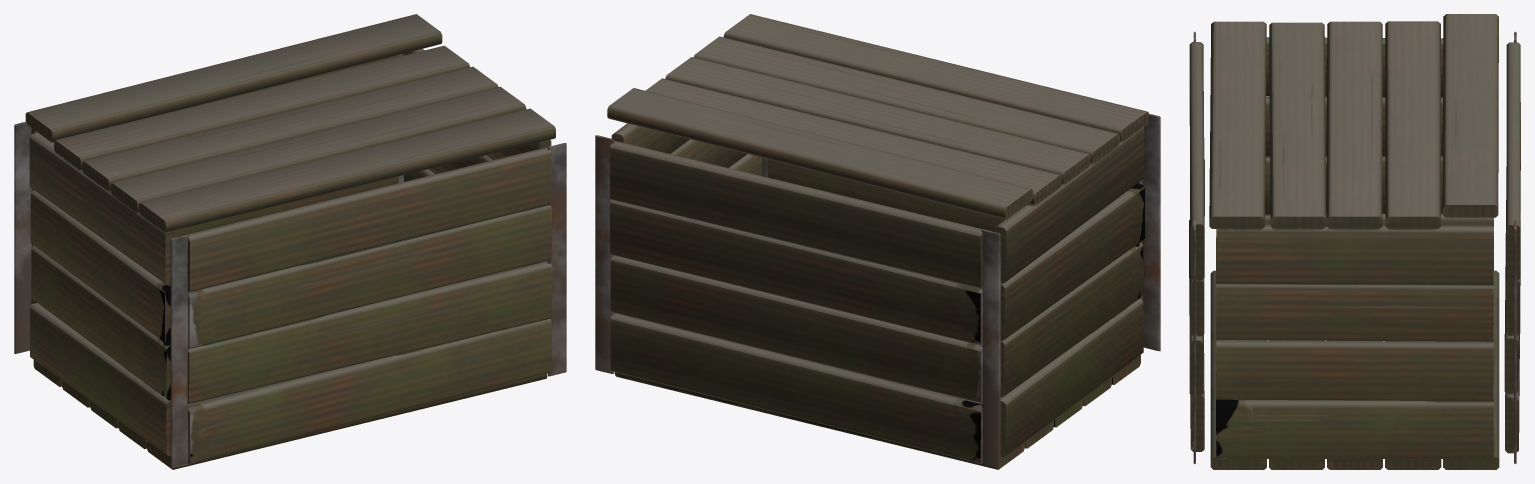
Rendered from SM_Barracks_Crate.fbx.
3 views of the same model, side by side, from view 1: azimuth 30°, elevation 25°; view 2: azimuth 150°, elevation 25°; view 3: azimuth 270°, elevation 25° (orthographic). The views are drawn at different scales.
Parts seen in each view (by area): view 1: SM_Barracks_Crate; view 2: SM_Barracks_Crate; view 3: SM_Barracks_Crate.
Boxes of the visible parts, left/top/right/bottom form: SM_Barracks_Crate: left=14, top=14, right=566, bottom=469; SM_Barracks_Crate: left=595, top=14, right=1160, bottom=469; SM_Barracks_Crate: left=1189, top=14, right=1520, bottom=469.
Bounding box in the file's own units: 74.3 × 52.57 × 47.
